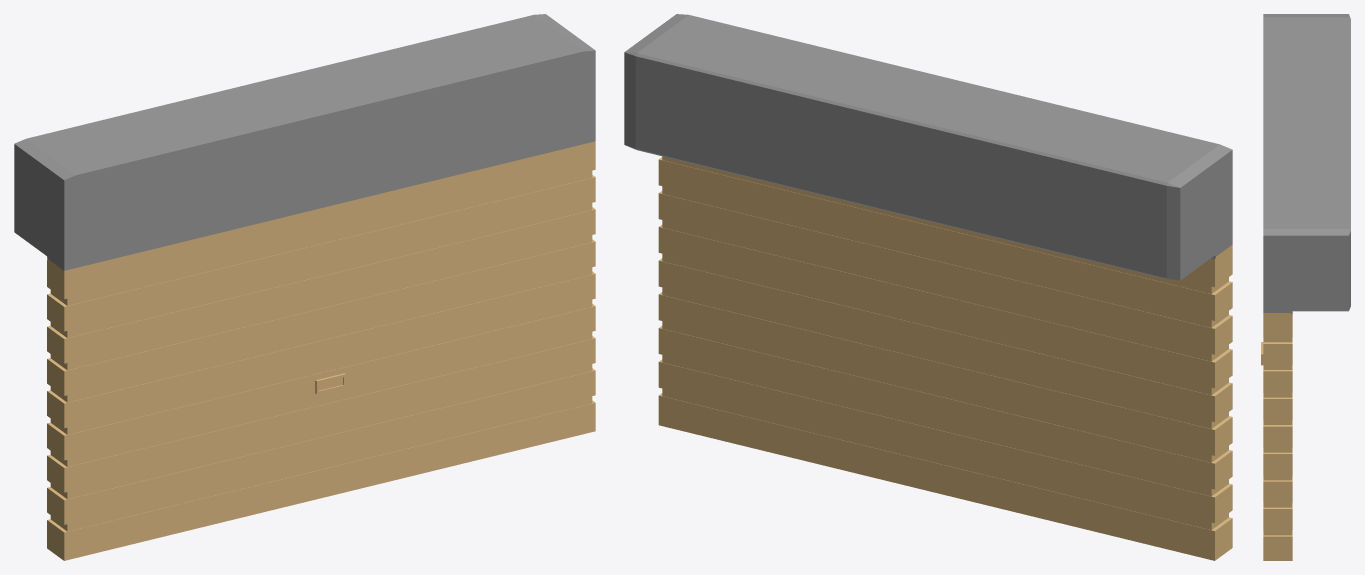
Rendered from garagedoor.fbx.
The picture shows the model from 3 angles, left to right: view 1: azimuth 30°, elevation 25°; view 2: azimuth 150°, elevation 25°; view 3: azimuth 270°, elevation 25°; orthographic projection. The views are drawn at different scales.
Visible parts, largest first — view 1: Garage Door; view 2: Garage Door; view 3: Garage Door.
Part boxes in pixels (x1=…): Garage Door: x1=14, y1=14, x2=595, y2=560; Garage Door: x1=624, y1=14, x2=1232, y2=560; Garage Door: x1=1261, y1=14, x2=1350, y2=560.
Bounding box in the file's own units: 1200 × 826 × 205.
